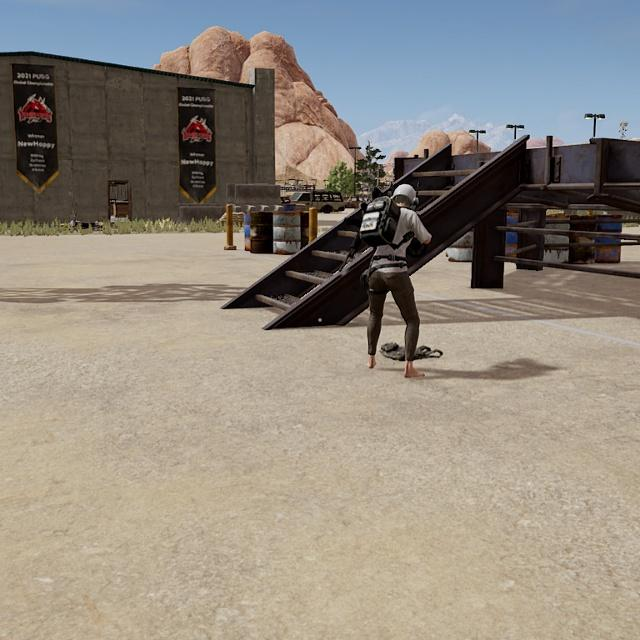head: (388, 180, 425, 210)
people: (361, 177, 435, 382)
